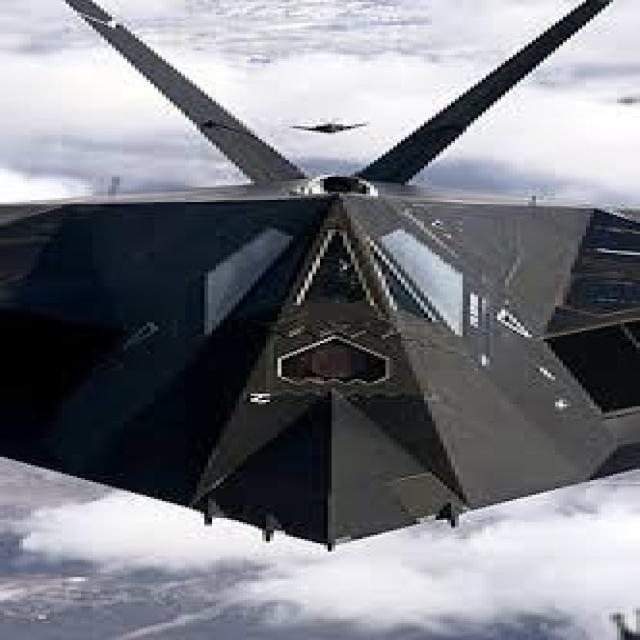F117: (0, 0, 640, 566)
